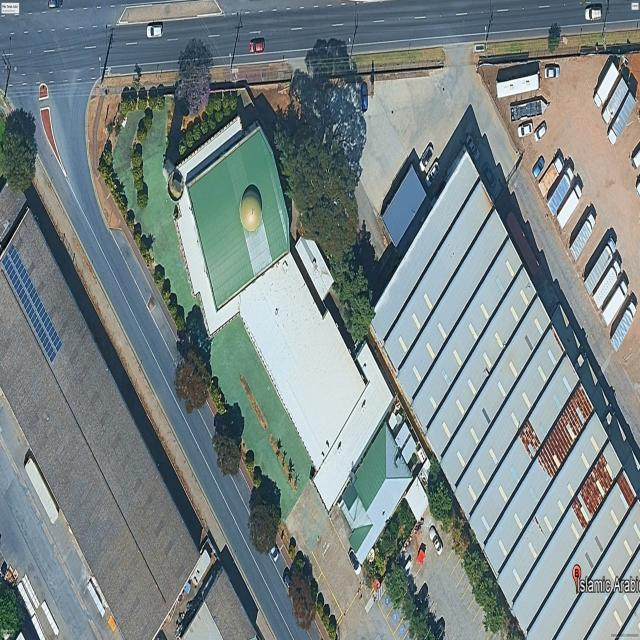Home: (341, 426, 412, 563)
mosque: (163, 116, 392, 511)
